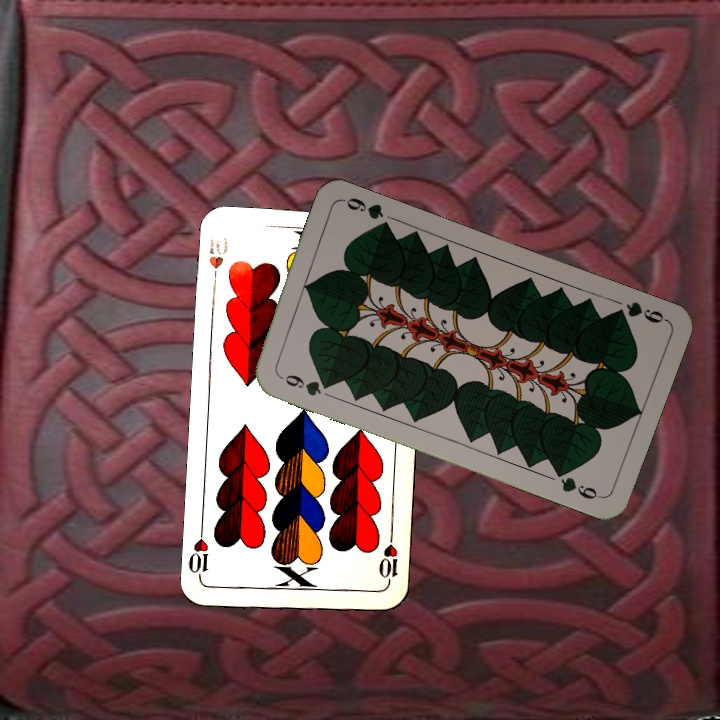G9: (608, 297, 669, 326), (274, 370, 334, 399)
H10: (374, 530, 401, 589), (204, 233, 230, 290)
